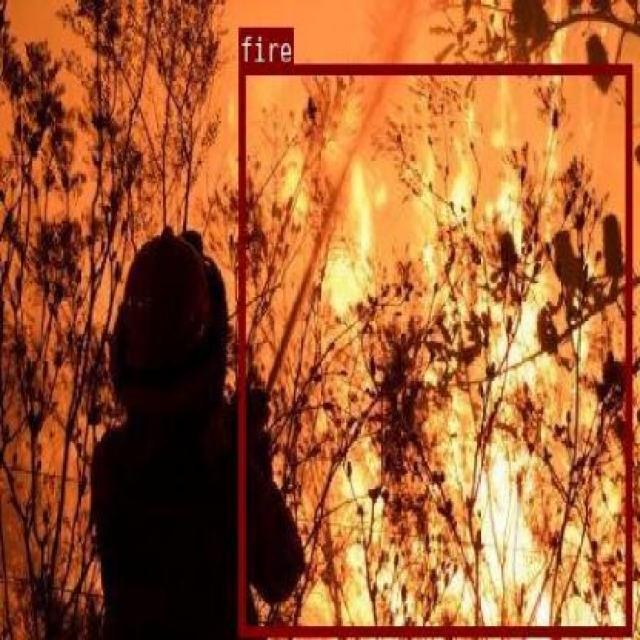Fire: (238, 62, 630, 633)
